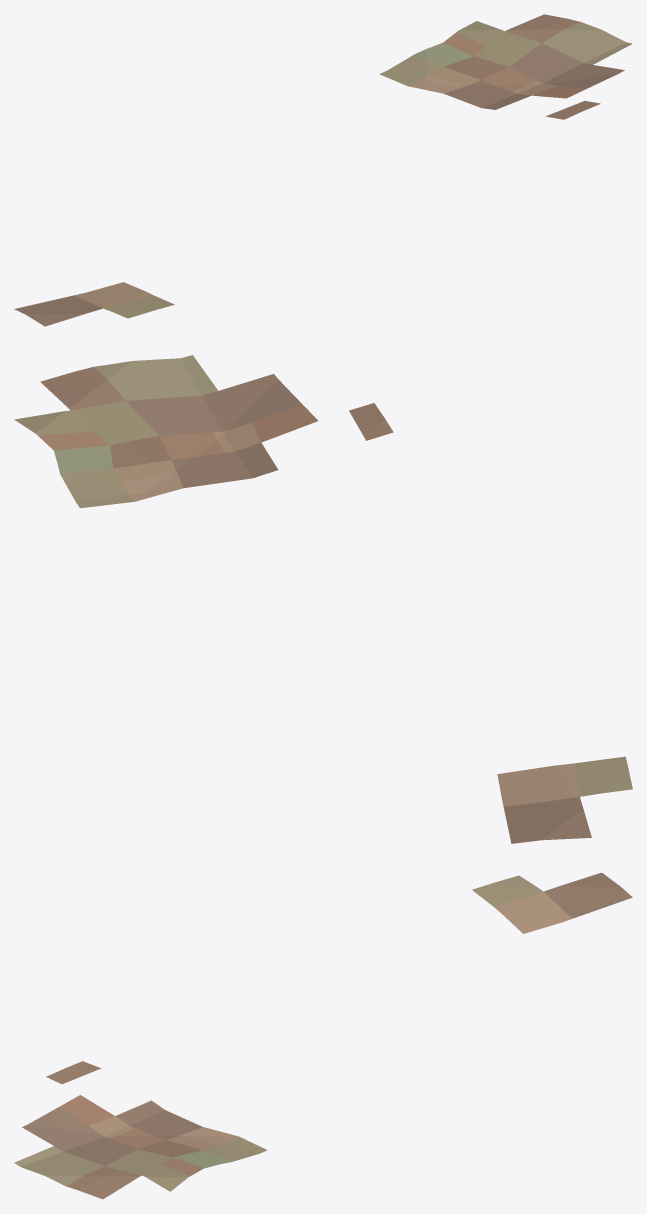
Rendered from farm_24_25_soil.glb.
3 renders of one model, top to bottom at view 1: azimuth 90°, elevation 25°; view 2: azimuth 150°, elevation 25°; view 3: azimuth 270°, elevation 25°, orthographic. The views are drawn at different scales.
Visible parts, largest first — view 1: geometry_0; view 2: geometry_0; view 3: geometry_0.
Part boxes in pixels (bbox=[...]): geometry_0: bbox=[14, 14, 632, 326]; geometry_0: bbox=[14, 355, 632, 843]; geometry_0: bbox=[14, 872, 632, 1199].
Size of the model in its own units: 535 by 17.3 by 438.
